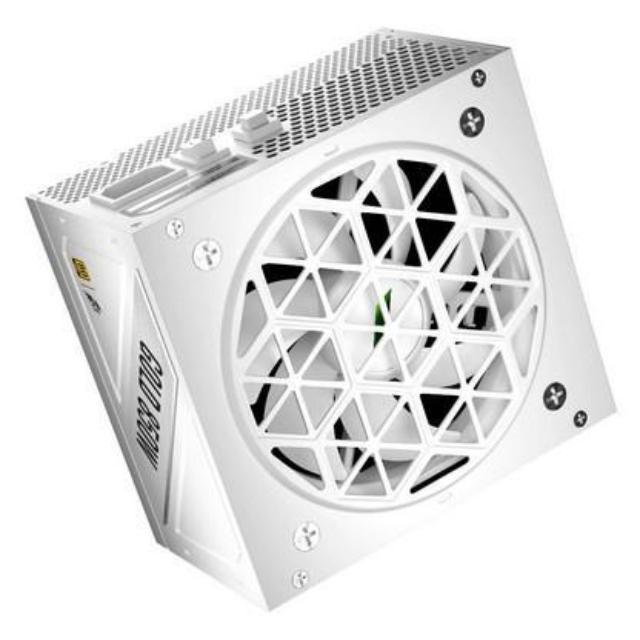PSU: (19, 6, 626, 623)
